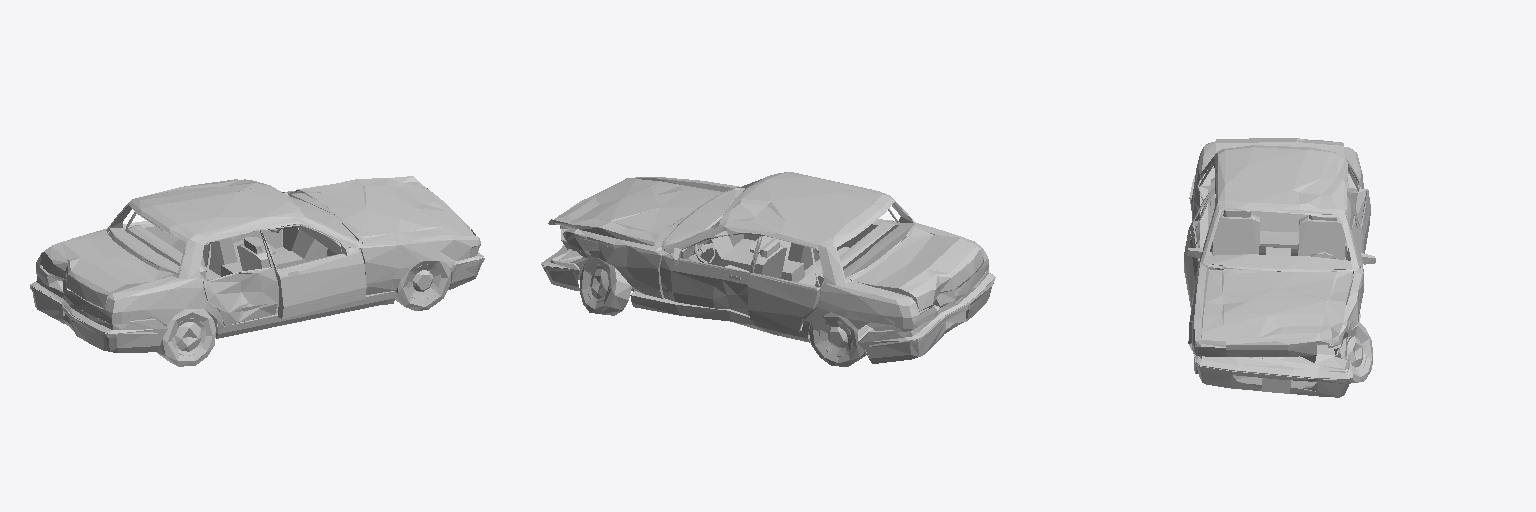
The model's file is Car_2.obj.
3 renders of one model, left to right at view 1: azimuth 30°, elevation 25°; view 2: azimuth 150°, elevation 25°; view 3: azimuth 270°, elevation 25°, orthographic.
Visible parts, largest first — view 1: (null); view 2: (null); view 3: (null).
Boxes of the visible parts, x1=… form: (null): x1=30, y1=176, x2=484, y2=366; (null): x1=541, y1=172, x2=995, y2=366; (null): x1=1184, y1=138, x2=1375, y2=397.
Bounding box in the file's own units: 215 × 68.22 × 92.74.